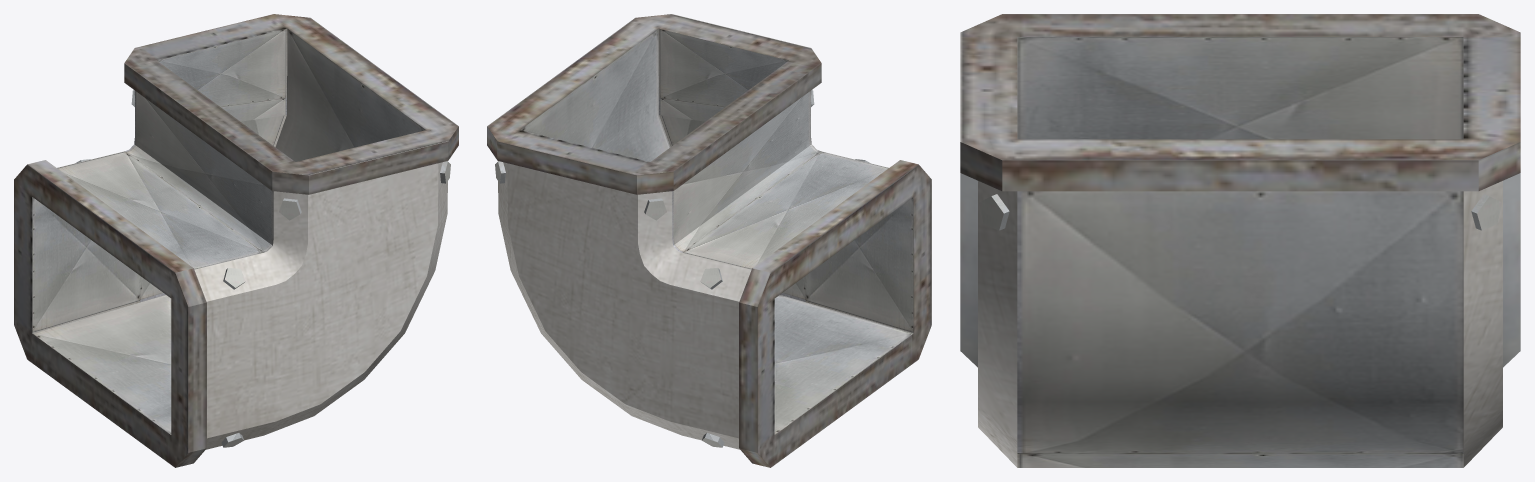
File: Air Ducts_Codo_V.fbx
3 views of the same model, side by side, from view 1: azimuth 30°, elevation 25°; view 2: azimuth 150°, elevation 25°; view 3: azimuth 270°, elevation 25° (orthographic). The views are drawn at different scales.
Visible parts, largest first — view 1: Codo_Vert; view 2: Codo_Vert; view 3: Codo_Vert.
Boxes of the visible parts, x1,y1,x2,y2 form: Codo_Vert: [14, 14, 458, 467]; Codo_Vert: [487, 14, 931, 467]; Codo_Vert: [960, 14, 1520, 467].
Bounding box in the file's own units: 55.73 × 51.2 × 59.32.
1 material, 1 textured.
